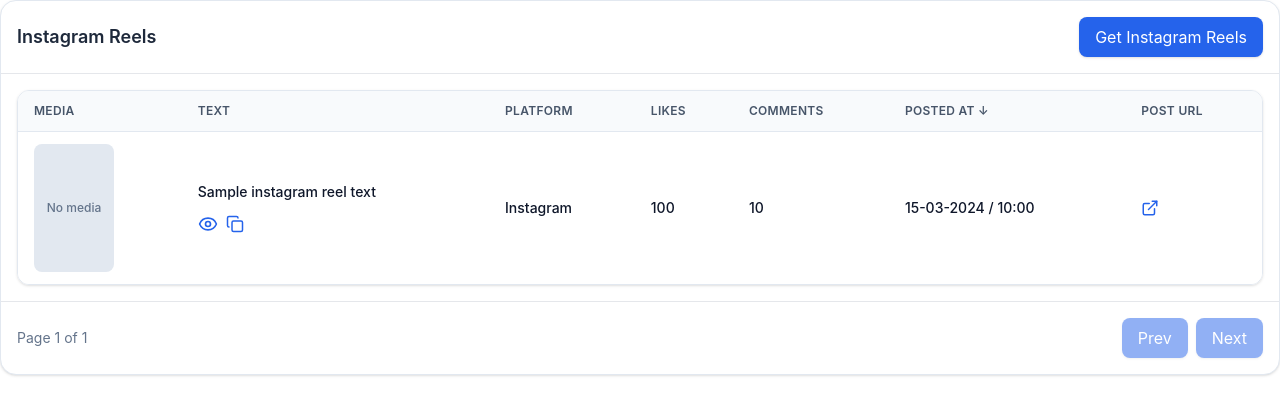
Scenario: InstagramReelsTable › column sorting › clicking "Comments" header shows ↓ sort indicator
Click the column heading "Comments" at (811, 111), box [733,91,889,132]
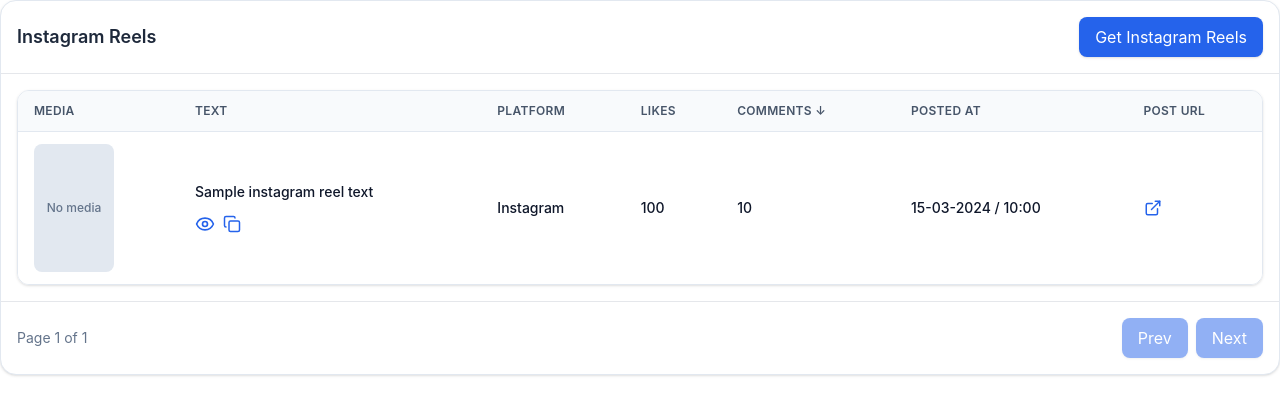
Check: the column heading "Comments ↓" is shown, box [721,91,895,132]
